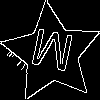M: (26, 28, 76, 81)
